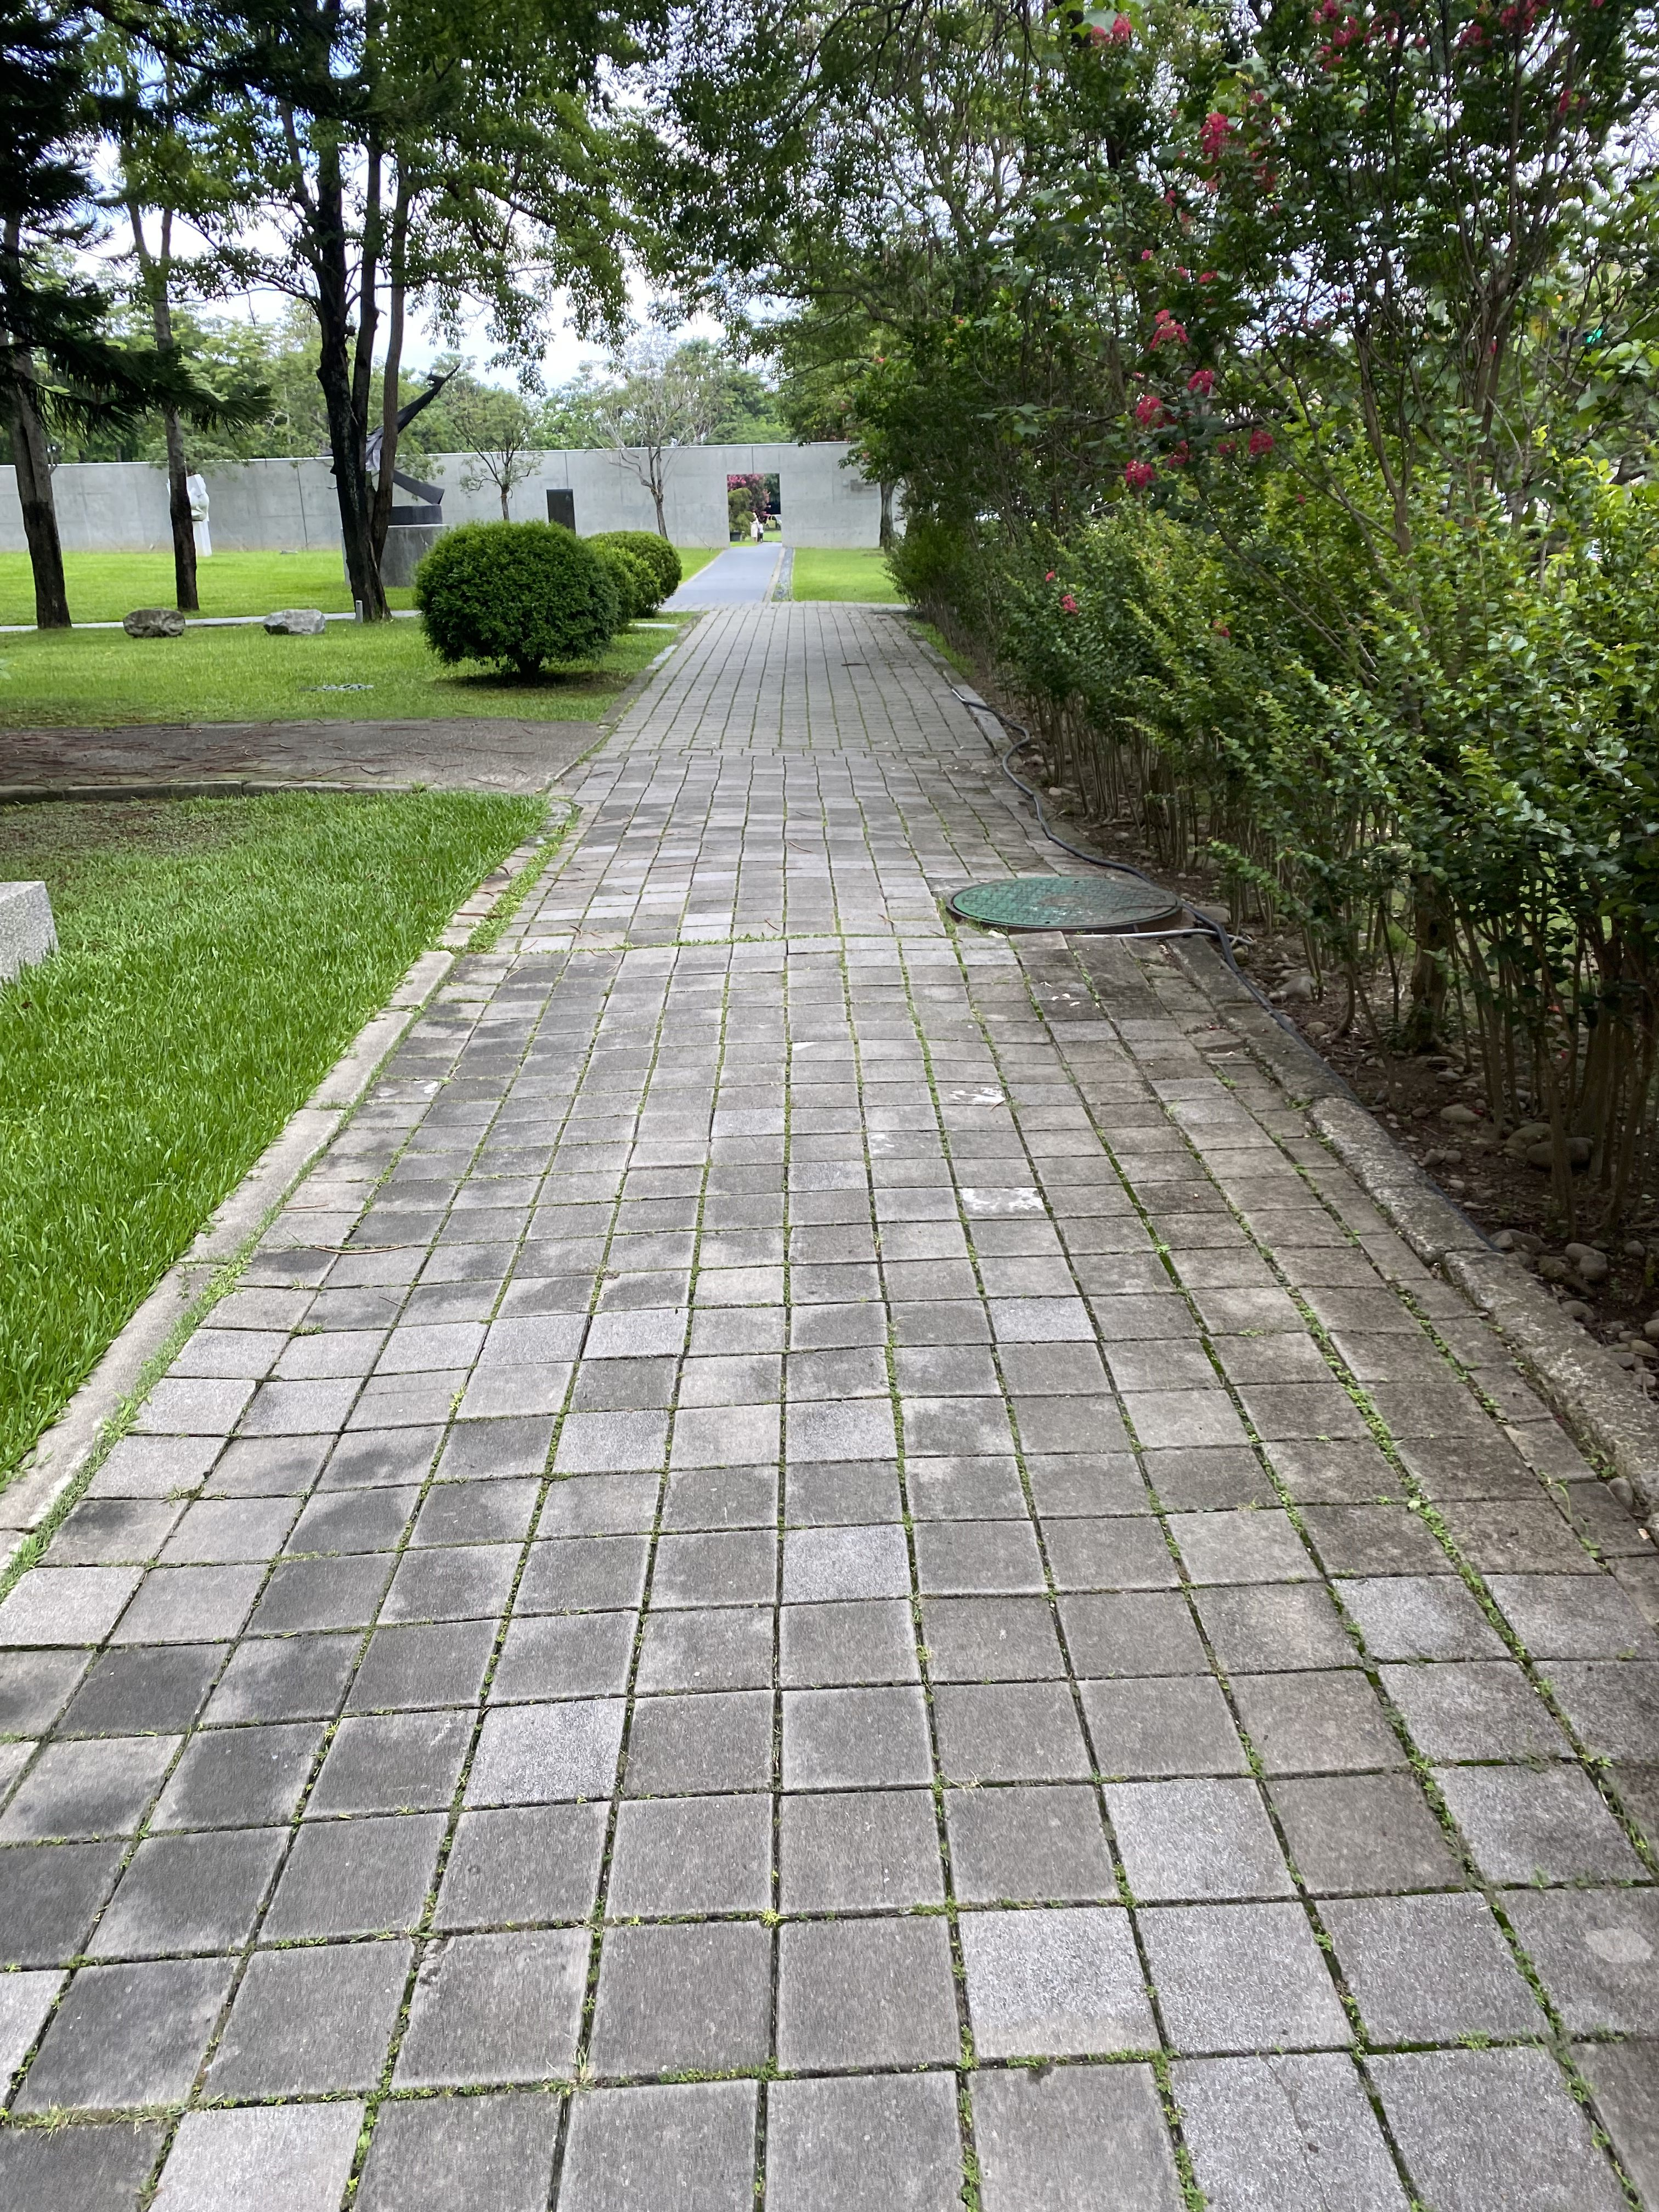0: (3, 721, 735, 2200)
sidewalk: (685, 543, 1659, 2212)
